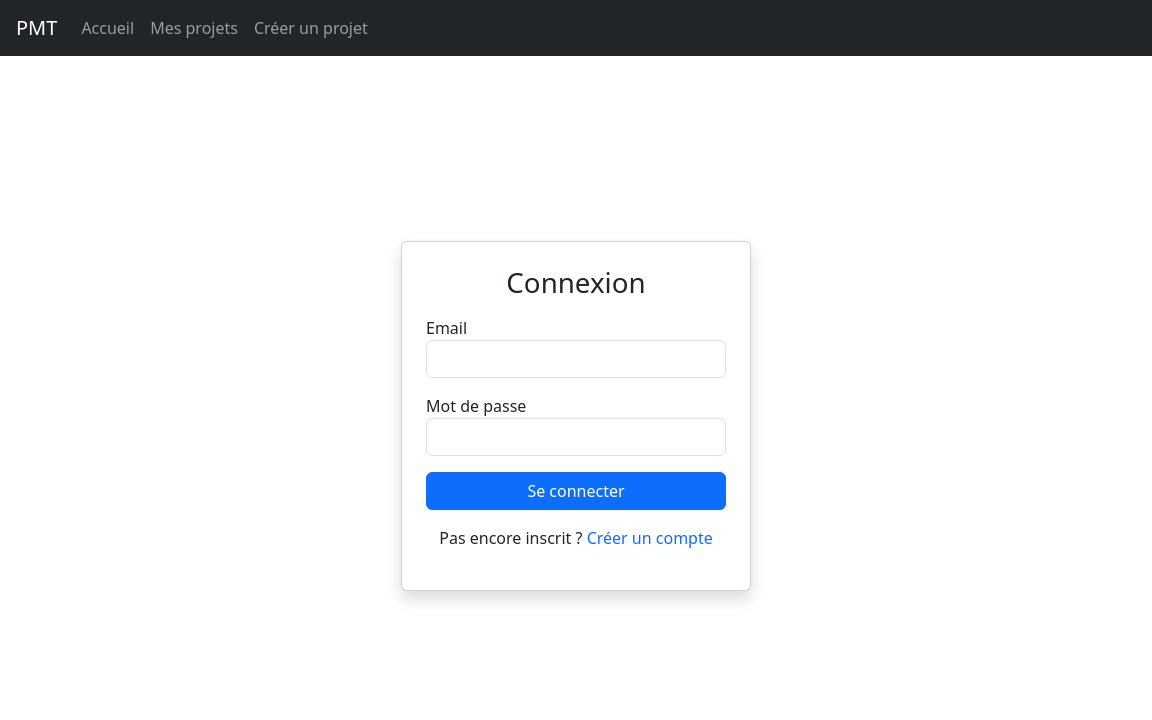
Test case: Test de connexion › doit afficher une erreur si l'utilisateur se trompe d'identifiants
Type "email-invalide@example.com" into the field named "email".
click(576, 359); type("email-invalide@example.com")  # box [426, 340, 726, 378]
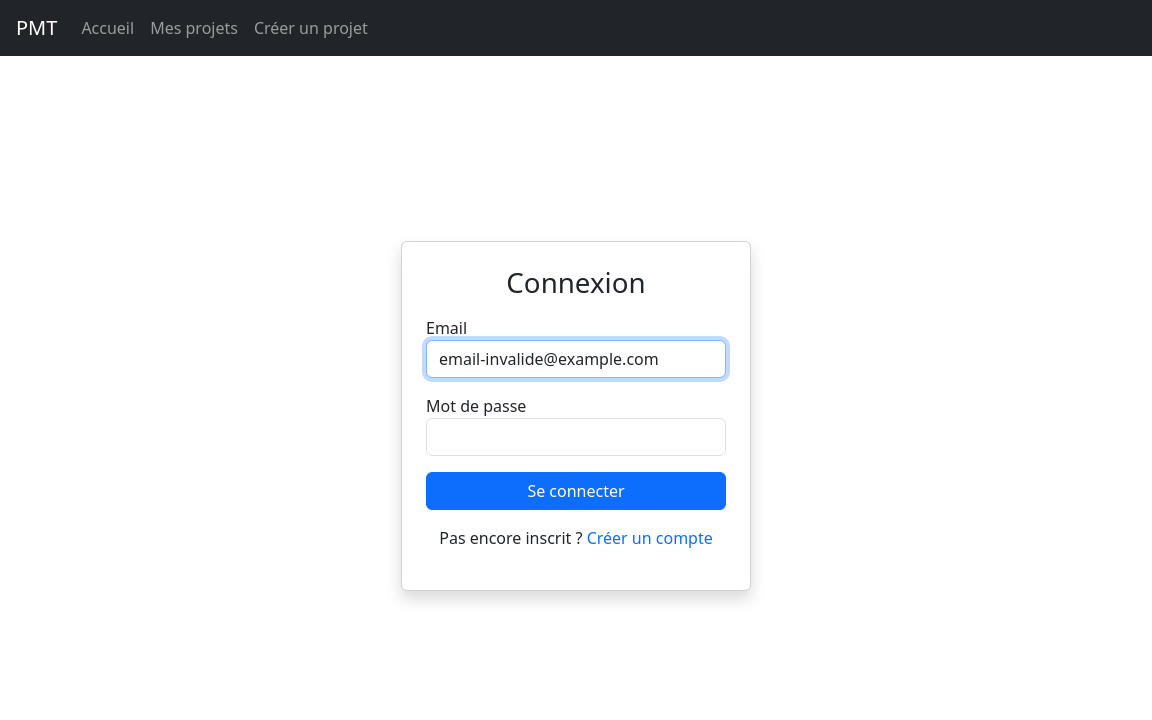
Type "mauvaismotdepasse" into the password field named "password".
click(576, 437); type("mauvaismotdepasse")  # box [426, 418, 726, 456]
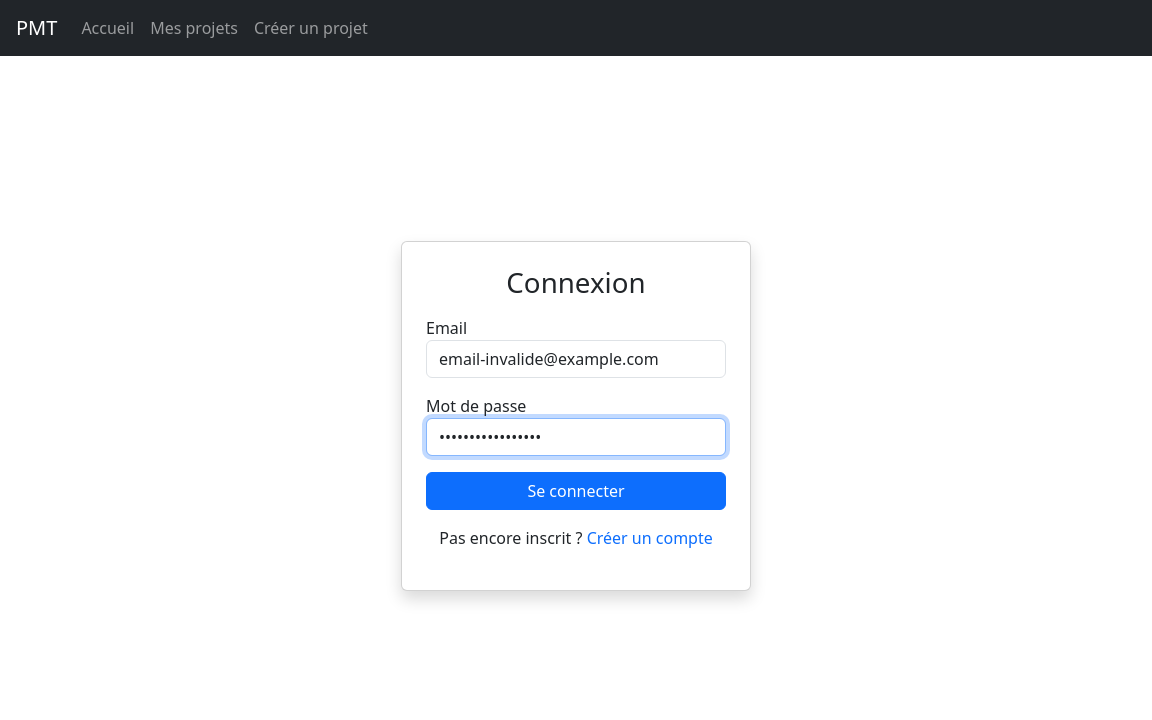
Click the submit button.
click(576, 491)  # box [426, 472, 726, 510]
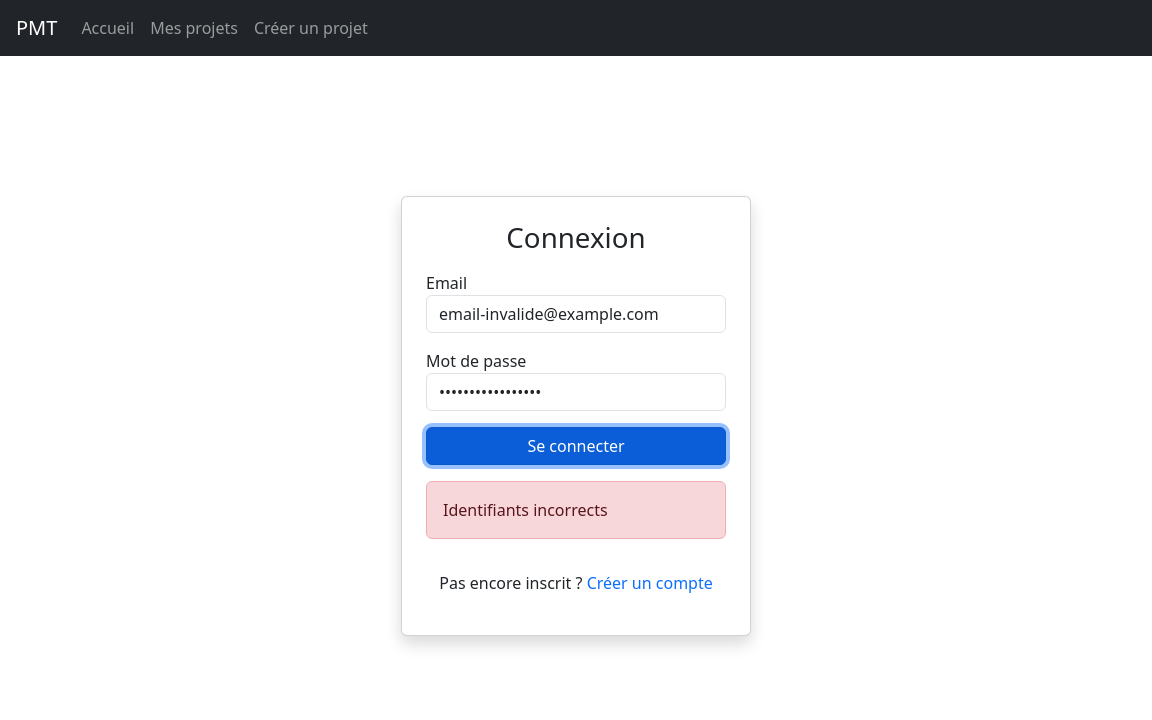
Now the text "Identifiants incorrects" is shown, box [426, 481, 726, 539]
